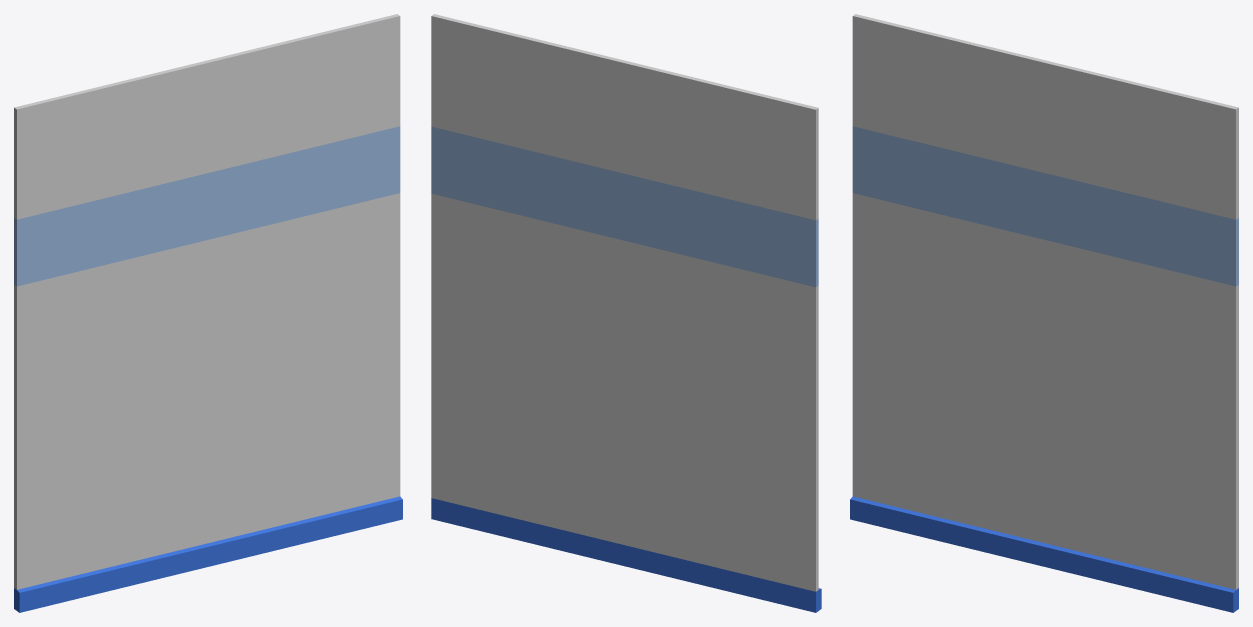
File: wall_lab.fbx
3 renders of one model, left to right at view 1: azimuth 30°, elevation 25°; view 2: azimuth 150°, elevation 25°; view 3: azimuth 330°, elevation 25°, orthographic.
Visible parts, largest first — view 1: Cube; view 2: Cube; view 3: Cube.
Boxes of the visible parts, left/top/right/bottom form: Cube: left=14, top=14, right=402, bottom=612; Cube: left=431, top=14, right=821, bottom=612; Cube: left=850, top=14, right=1238, bottom=612.
Size of the model in its own units: 400 by 500 by 9.96.
